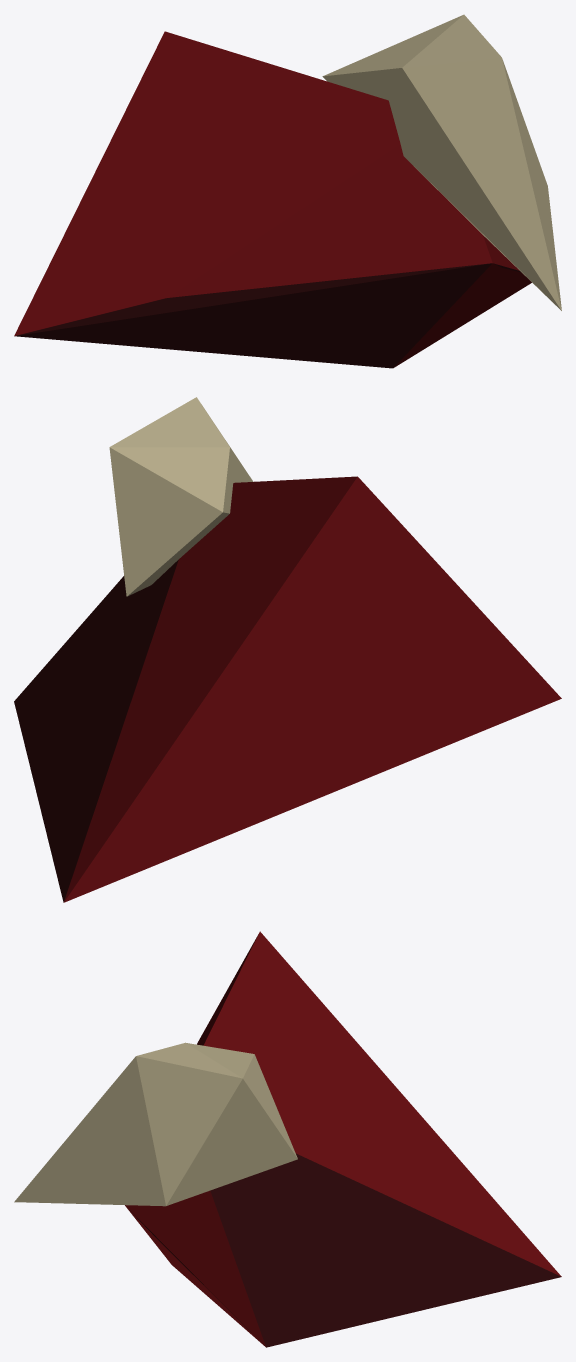
Rendered from gib_04.glb.
The picture shows the model from 3 angles, top to bottom: view 1: azimuth 30°, elevation 25°; view 2: azimuth 150°, elevation 25°; view 3: azimuth 270°, elevation 25°; orthographic projection. The views are drawn at different scales.
Visible parts, largest first — view 1: gib_04; view 2: gib_04; view 3: gib_04.
Part boxes in pixels (x1=…): gib_04: x1=14, y1=14, x2=561, y2=368; gib_04: x1=14, y1=397, x2=561, y2=902; gib_04: x1=14, y1=931, x2=561, y2=1347.
Size of the model in its own units: 0.2211 by 0.1373 by 0.2331.
